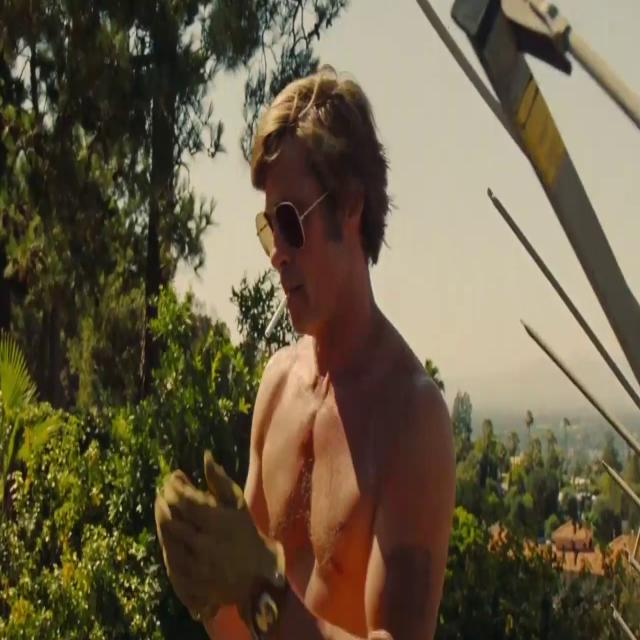Smooking: (256, 290, 292, 344)
